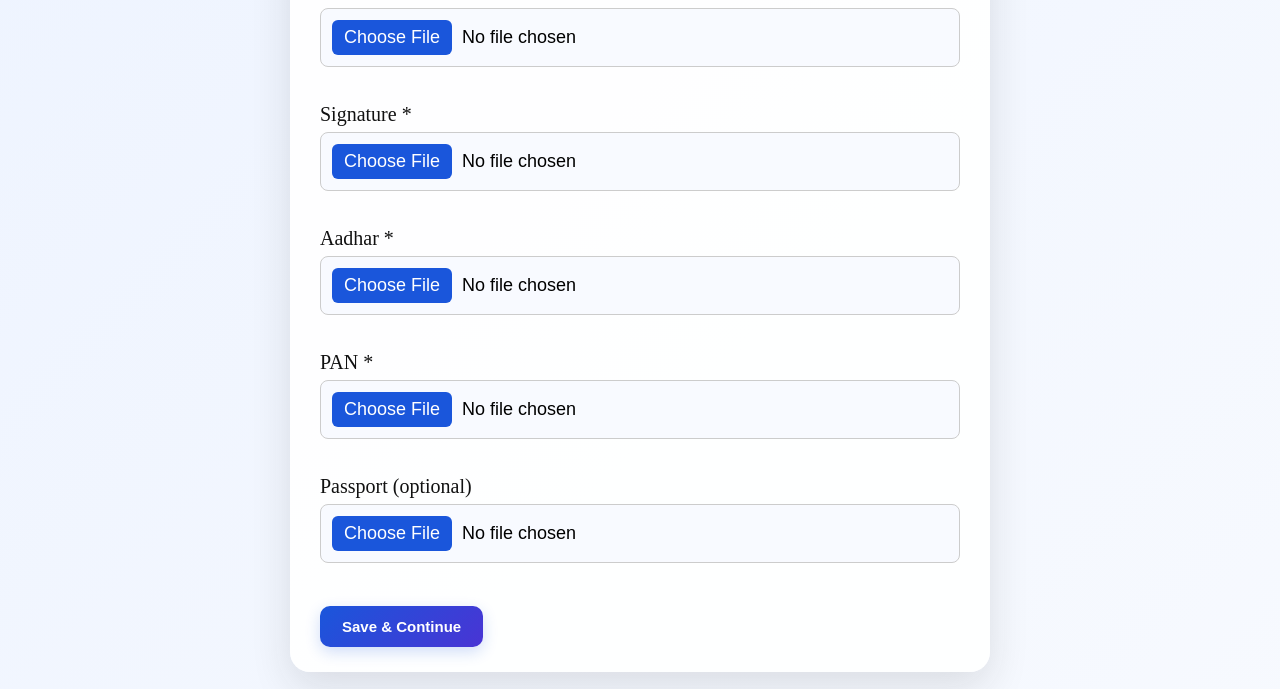
Scenario: OnBoard Registration App › shows validation errors when personal details are empty
The image size is (1280, 689).
(page scrolled)
Click the button "Save & Continue": (402,626) [320,606,483,646]
(page scrolled)
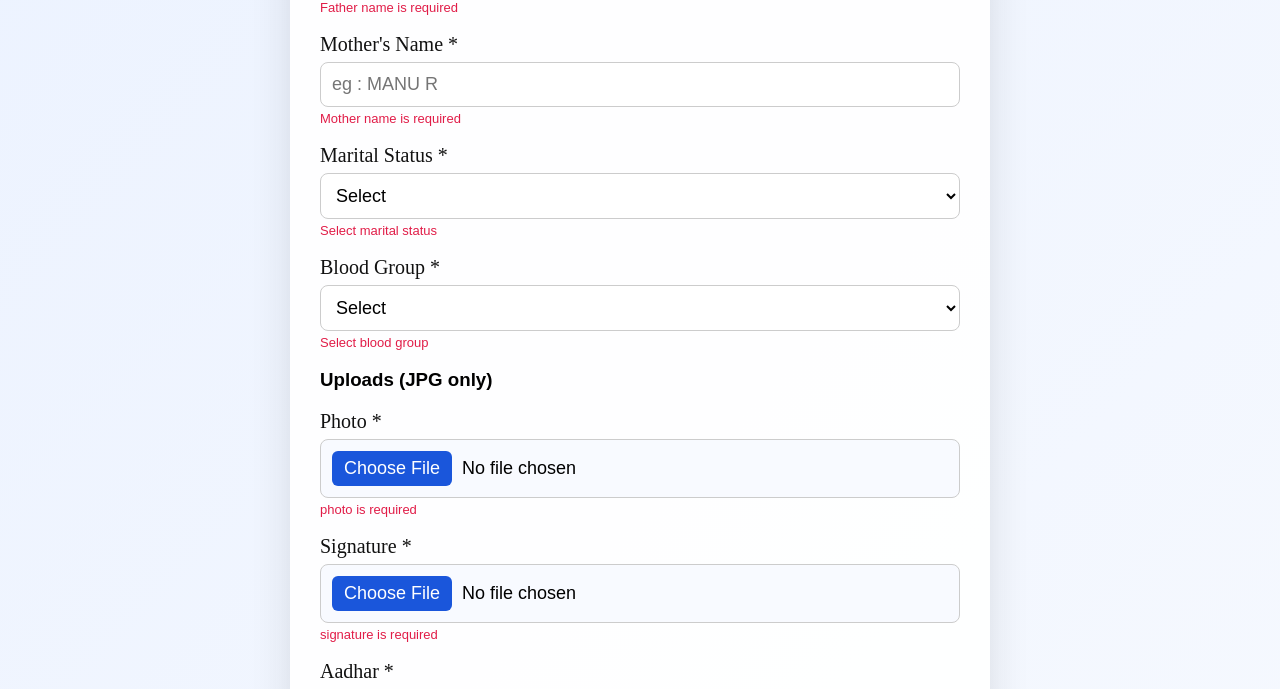
Check: the text "Select blood group" is shown, box [320,335,428,350]
